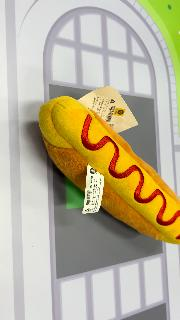hotdog: (38, 95, 180, 245)
